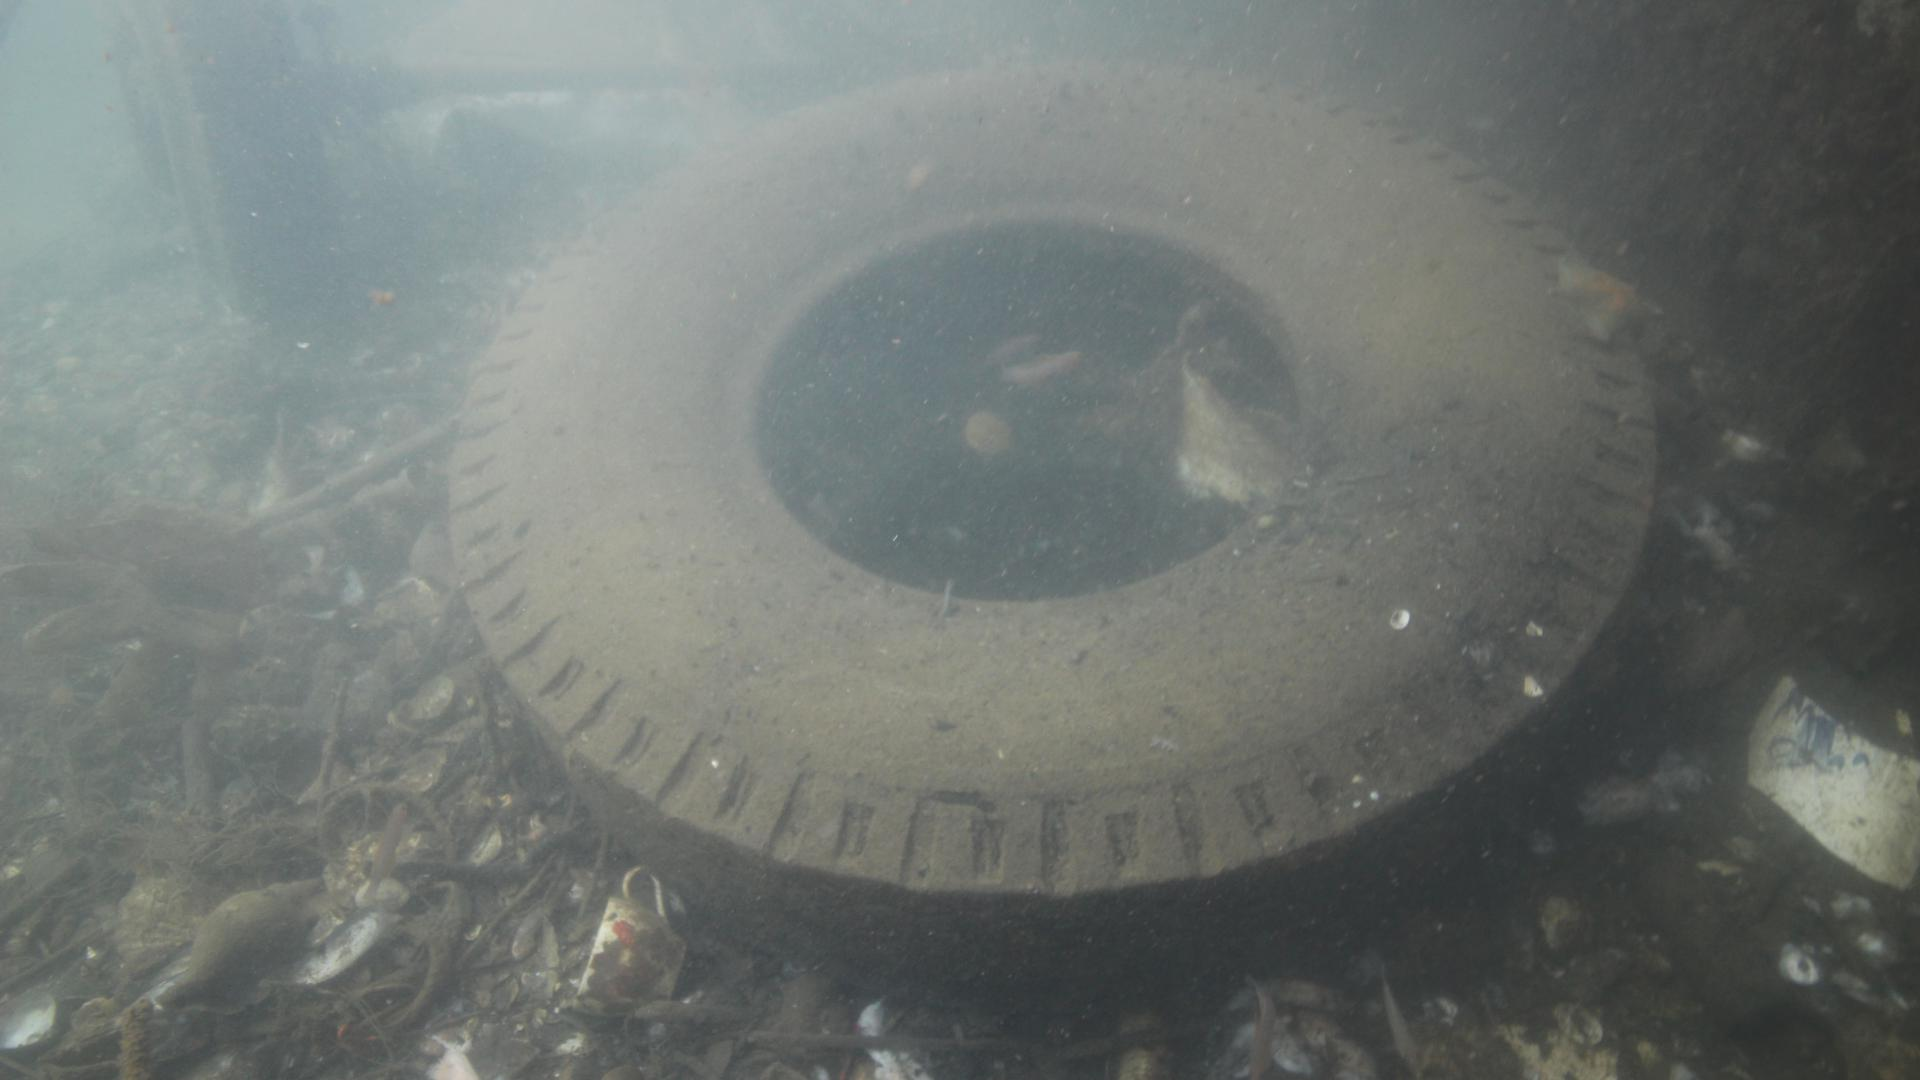tire: (443, 61, 1656, 1033)
